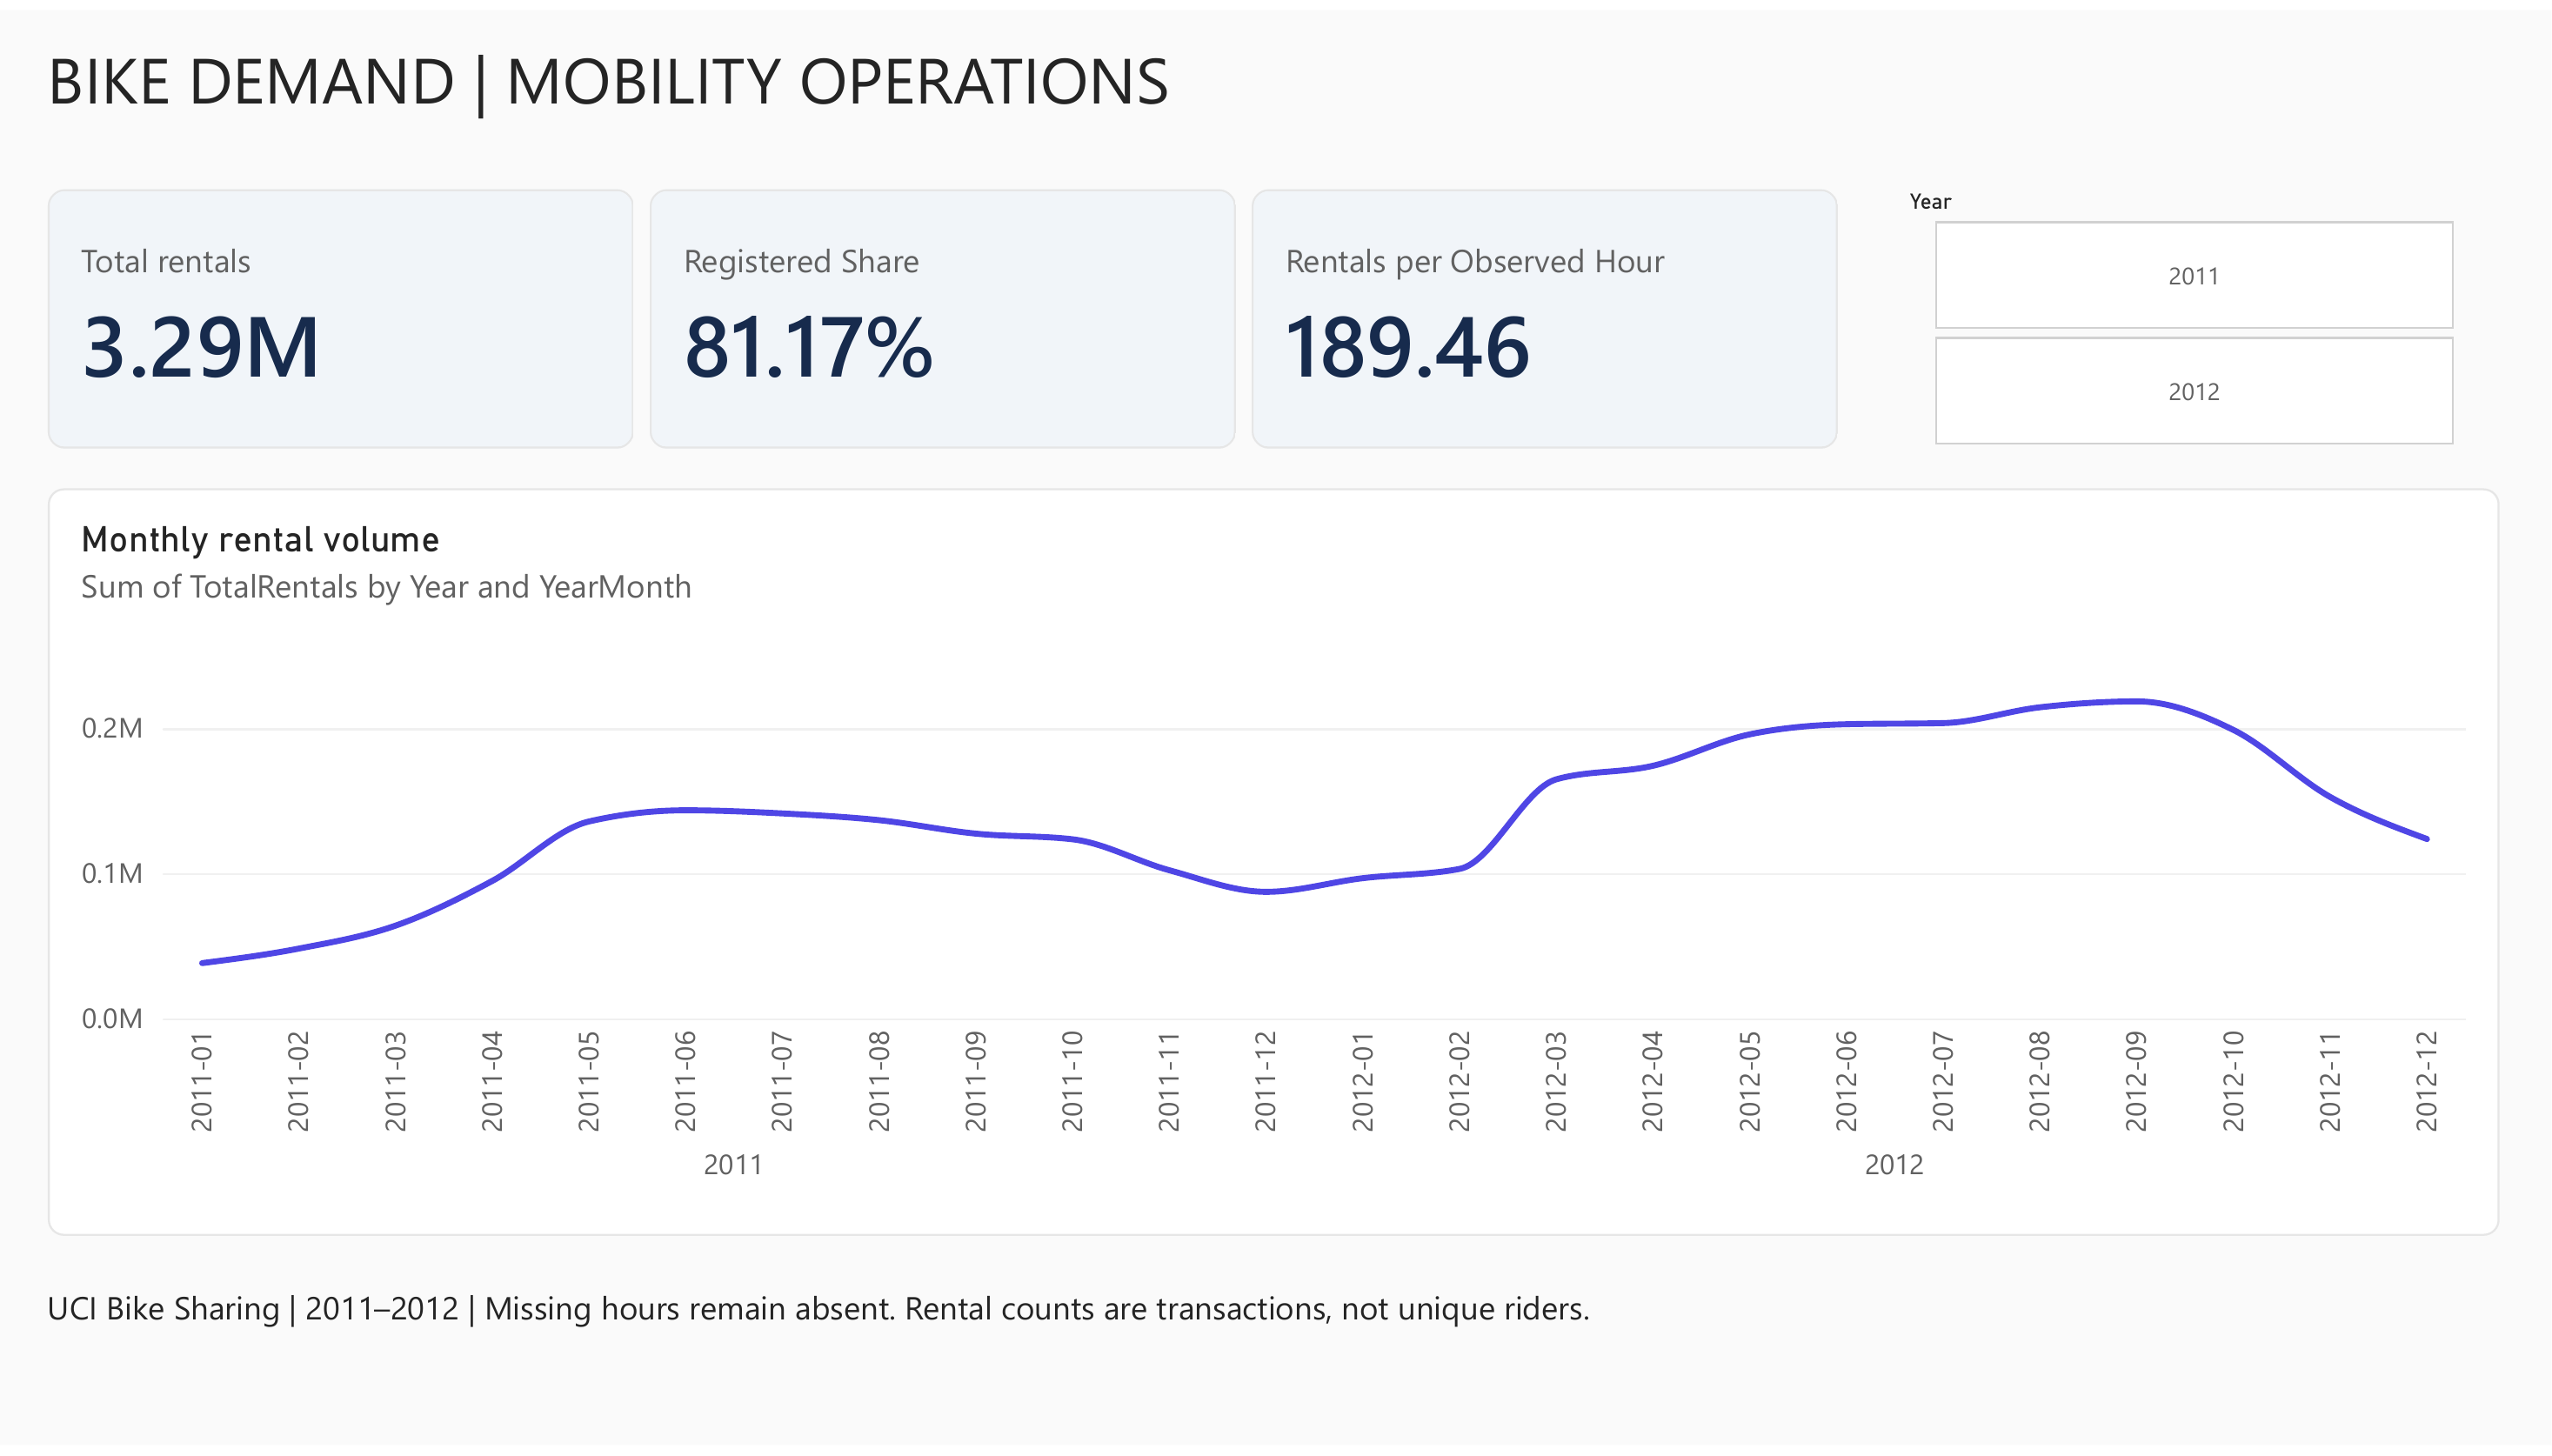

What the dashboard file says about the page in this screenshot:
{"tool":"powerbi","page":{"name":"01 Demand Overview","canvas":[1280,720],"ordinal":0},"visuals":[{"type":"textbox","box":[24,12,1230,72],"z":0},{"type":"cardVisual","fields":{"Data":["Sum(rentals.TotalRentals)","rentals.Registered Share","rentals.Rentals per Observed Hour"]},"box":[24,90,900,130],"z":1},{"type":"textbox","box":[24,640,1230,50],"z":2},{"type":"slicer","fields":{"Values":["rentals.Year"]},"box":[950,90,300,130],"z":3},{"type":"lineChart","title":"Monthly rental volume","fields":{"Category":["rentals.Year","rentals.YearMonth","rentals.Date"],"Y":["Sum(rentals.TotalRentals)"]},"box":[24,240,1230,375],"z":4}]}

Visuals, with their boxes in screenshot pixels (x1, y1, x2, y2), scaled from the page's 1280x720 canvas onto the 2552x1456 screenshot:
textbox: box=[48, 24, 2500, 170]
cardVisual - Sum(rentals.TotalRentals) x rentals.Registered Share: box=[48, 182, 1842, 445]
textbox: box=[48, 1294, 2500, 1395]
slicer - rentals.Year: box=[1894, 182, 2492, 445]
"Monthly rental volume" lineChart: box=[48, 485, 2500, 1244]
